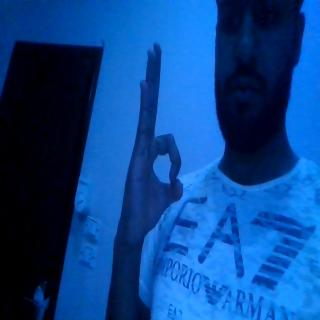Space: (112, 38, 200, 276)
